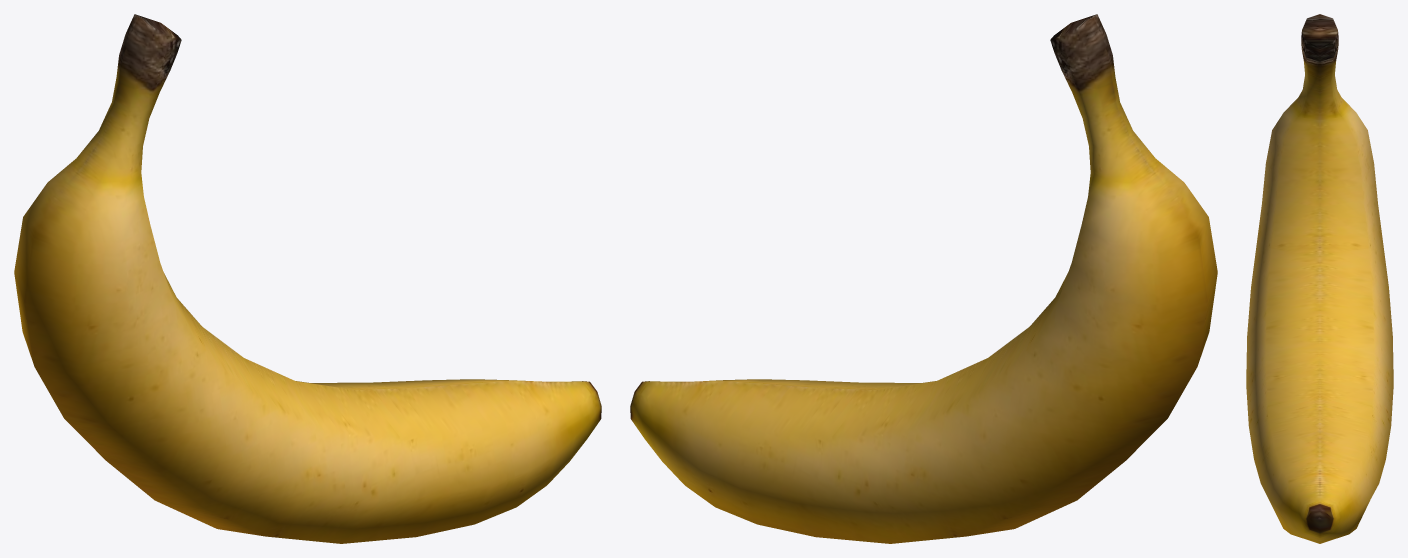
File: banana.fbx
The picture shows the model from 3 angles, left to right: view 1: azimuth 30°, elevation 25°; view 2: azimuth 150°, elevation 25°; view 3: azimuth 270°, elevation 25°; orthographic projection. The views are drawn at different scales.
Parts seen in each view (by area): view 1: Banana; view 2: Banana; view 3: Banana.
Boxes of the visible parts, x1,y1,x2,y2 form: Banana: [14, 14, 601, 543]; Banana: [630, 14, 1217, 543]; Banana: [1246, 14, 1393, 543].
Bounding box in the file's own units: 532 × 513 × 168.
